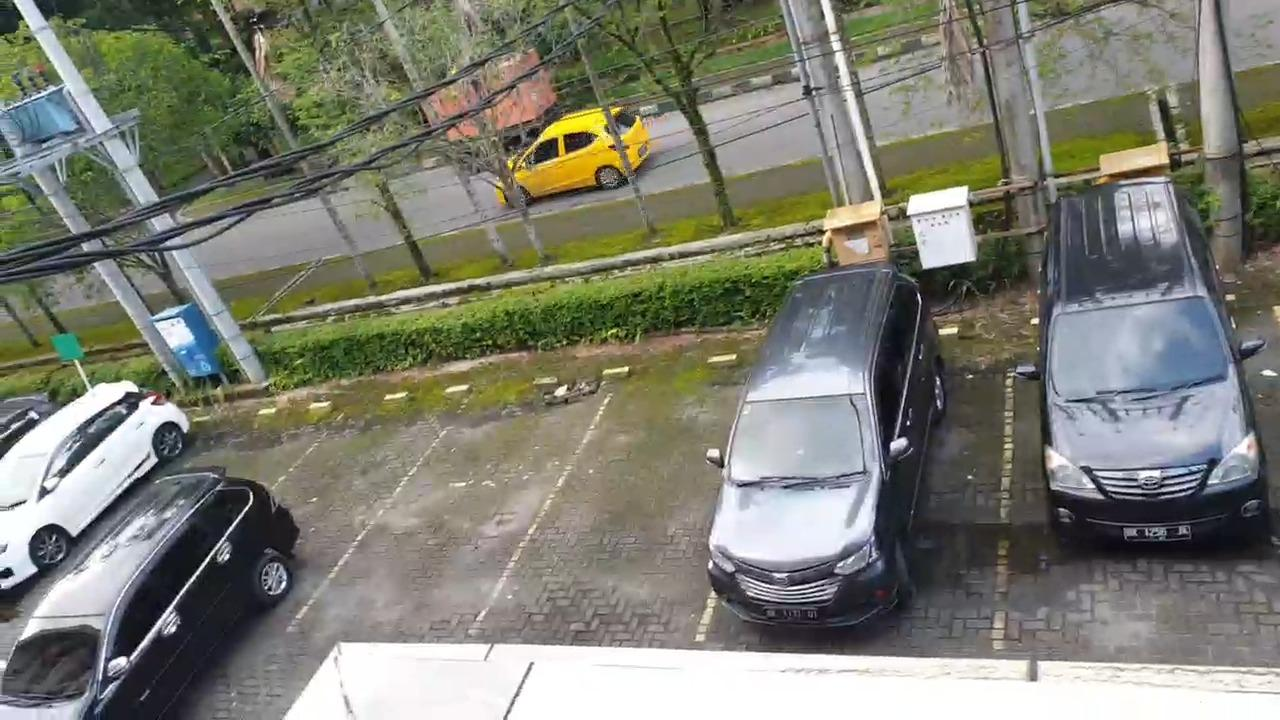empty: (521, 358, 718, 645), (363, 385, 548, 639), (247, 399, 379, 631)
occupied: (992, 272, 1280, 633), (700, 325, 1008, 648)
